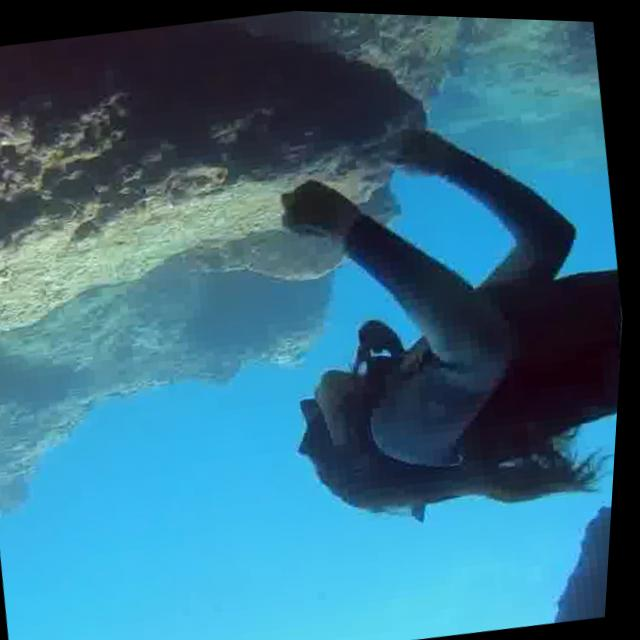human: (226, 13, 640, 566)
